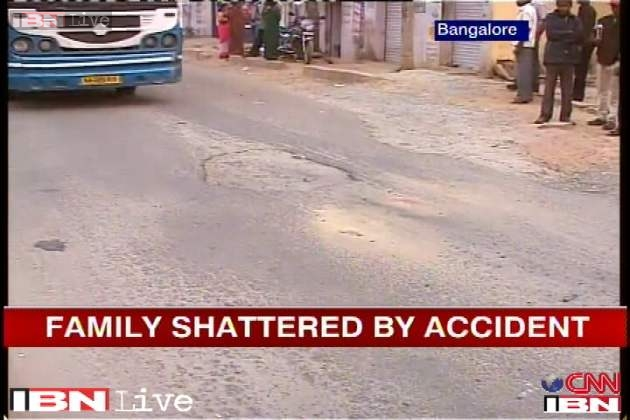pothole: (183, 126, 364, 226), (24, 230, 74, 261), (332, 224, 389, 244)
